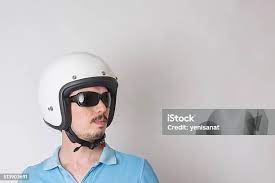helmets: (36, 51, 119, 131)
